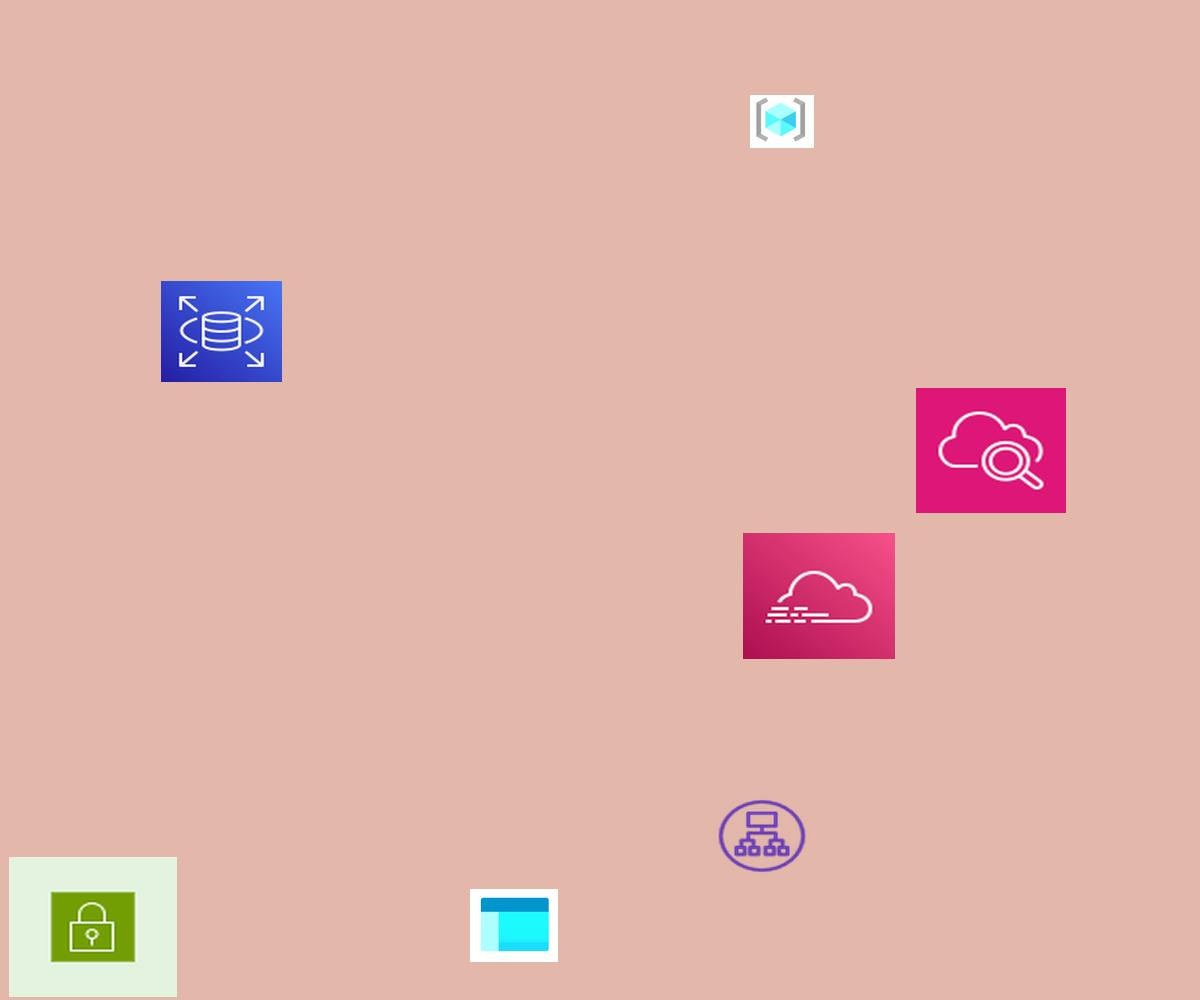AWS-CloudTrail: (743, 533, 895, 659)
AWS-CloudWatch: (916, 388, 1066, 513)
AWS-Public-subnet: (9, 857, 177, 997)
AWS-RDS: (161, 281, 282, 382)
AWS-Res_Elastic-Load-Balancing_Application-Load-Balancer: (715, 797, 809, 875)
Azure_management-portal: (470, 889, 558, 962)
Azure_resource_group: (750, 95, 814, 148)
